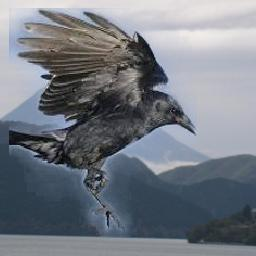Crow: (9, 9, 197, 238)
